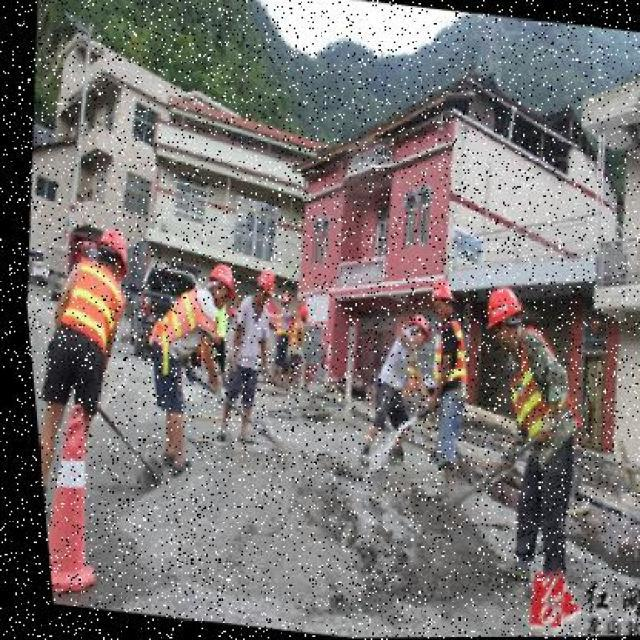helmet: (475, 285, 519, 330), (89, 223, 131, 269), (245, 268, 285, 304), (202, 254, 234, 294), (423, 275, 449, 301)
